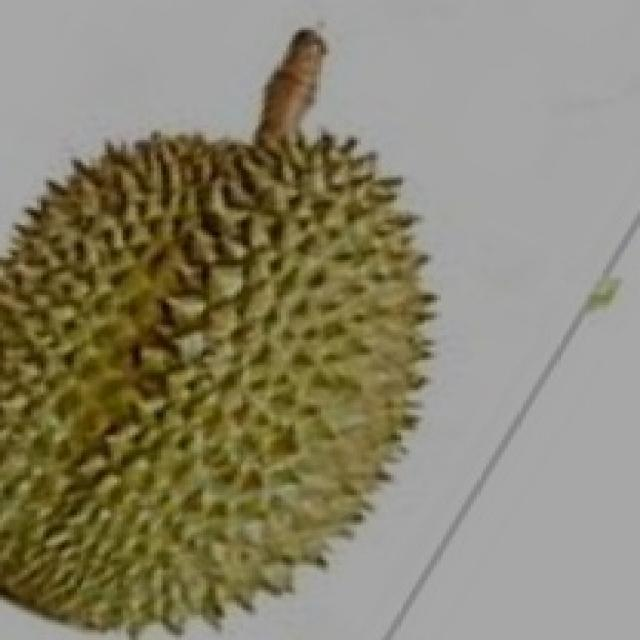fruit: (3, 260, 388, 640)
